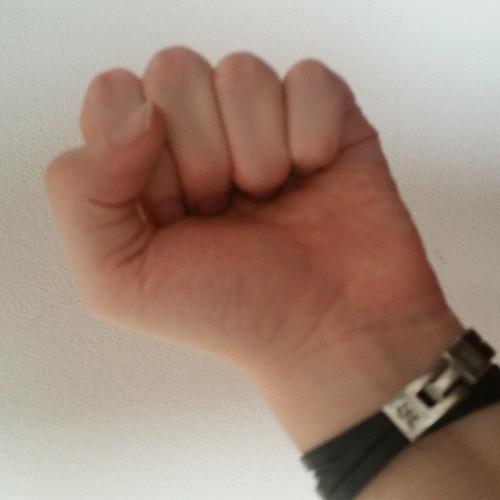rock: (37, 37, 429, 347)
